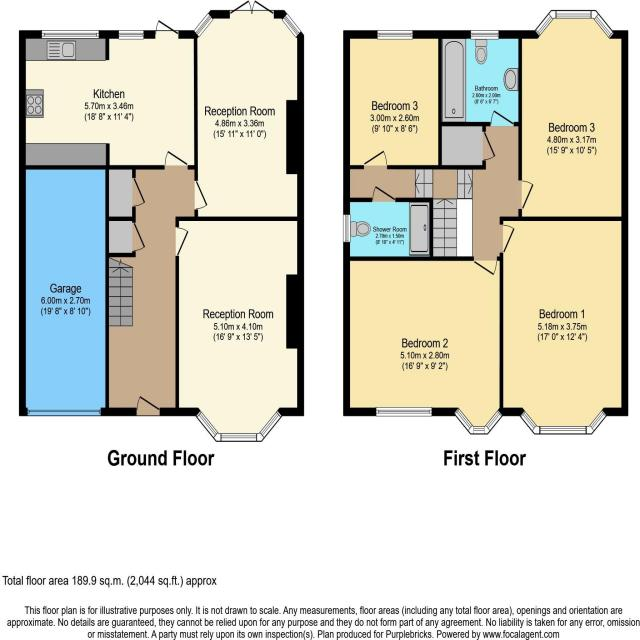DOOR: (472, 255, 498, 277), (499, 223, 516, 254), (136, 395, 161, 416), (518, 179, 534, 210), (164, 150, 188, 170), (194, 179, 209, 211), (154, 20, 179, 39), (363, 150, 388, 169), (371, 185, 396, 203), (175, 226, 189, 257), (490, 109, 514, 127)
DOUBLE DOOR: (228, 0, 276, 20)
ROOM: (175, 216, 304, 443), (343, 256, 504, 435), (499, 216, 628, 435), (19, 19, 199, 170), (194, 0, 304, 221), (518, 10, 628, 221), (343, 30, 442, 169)
WINDOW: (195, 410, 283, 443), (534, 9, 615, 40), (519, 409, 607, 435), (453, 407, 503, 435), (375, 407, 432, 417), (193, 12, 214, 38), (281, 13, 302, 38), (41, 30, 99, 39), (377, 30, 413, 40), (470, 30, 499, 40), (342, 214, 351, 243), (118, 30, 144, 40)
